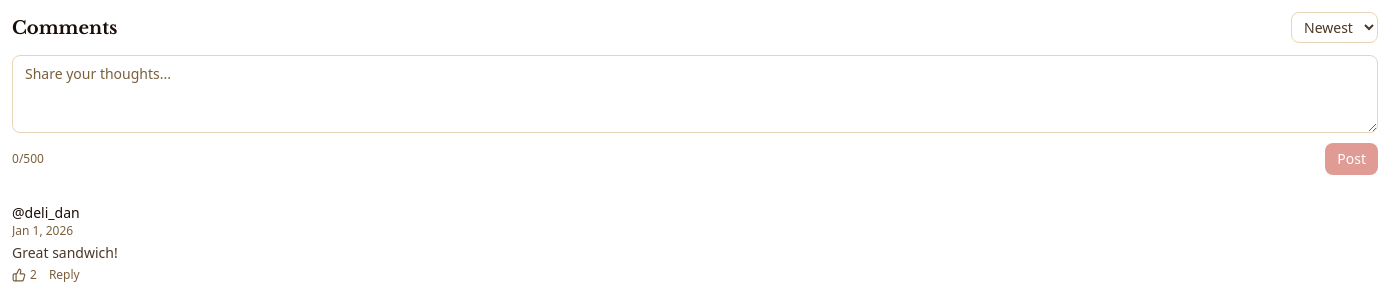
Test case: CommentSection › likes a comment and shows the updated count
Expected: the text "Great sandwich!" is shown, [12, 243, 118, 262]
Click the button named "like".
click(24, 275)  # box [12, 267, 37, 283]
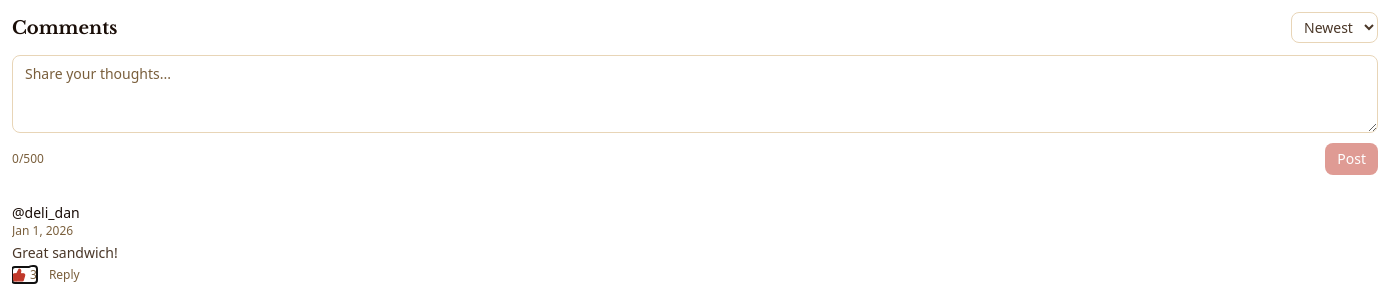
Result: the text "3" is shown at [30, 267, 37, 283]
